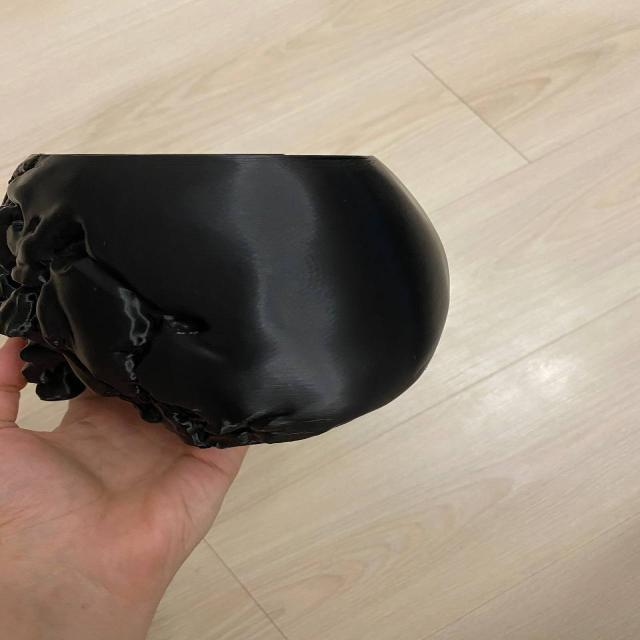Without deffect: (0, 128, 455, 456)
